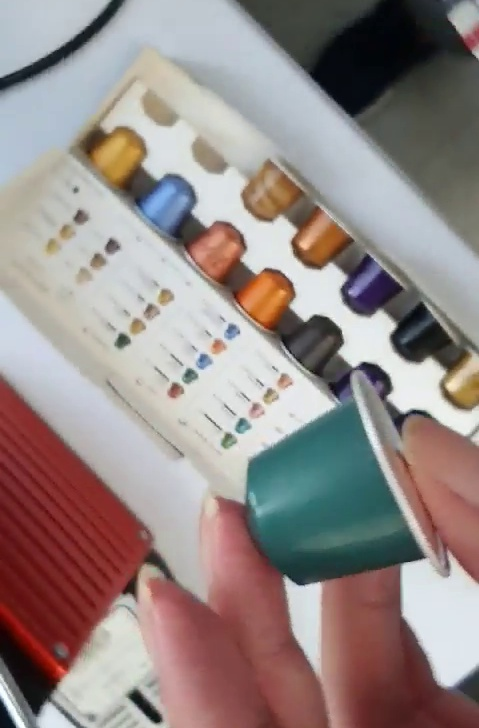capsule_13: (233, 366, 454, 595)
